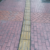zebra: (1, 17, 50, 50)
